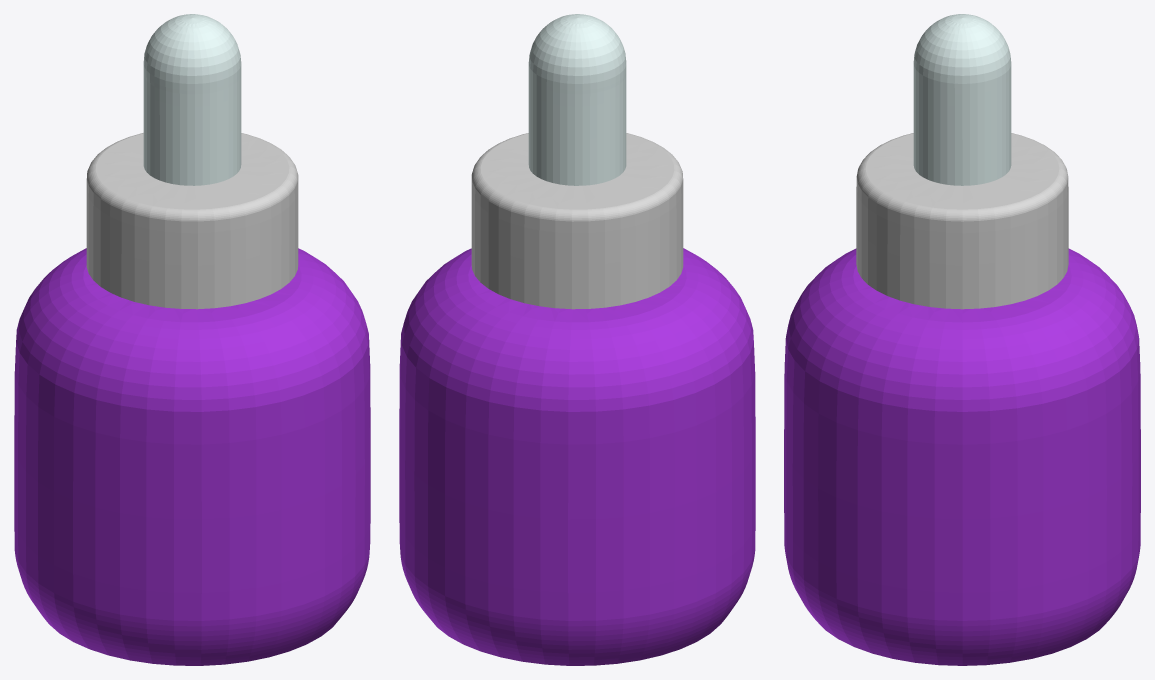
File: bottle3_2.glb
The picture shows the model from 3 angles, left to right: view 1: azimuth 30°, elevation 25°; view 2: azimuth 150°, elevation 25°; view 3: azimuth 270°, elevation 25°; orthographic projection.
Size of the model in its own units: 0.3655 by 0.66 by 0.3655.
